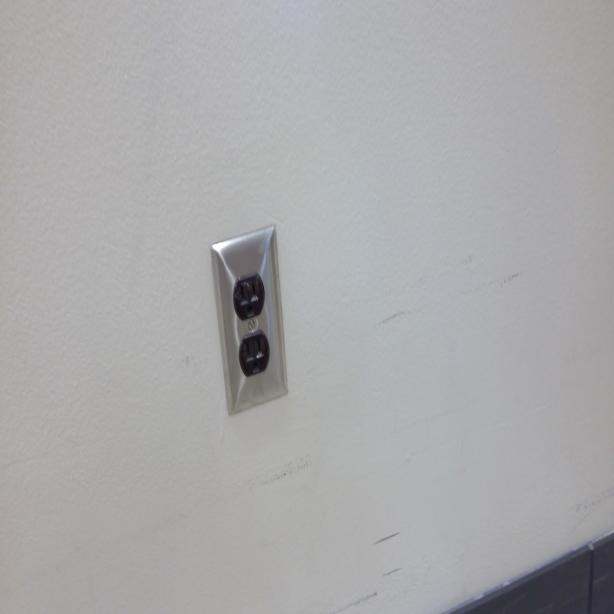typeb: (238, 334, 270, 380), (232, 276, 264, 320)
